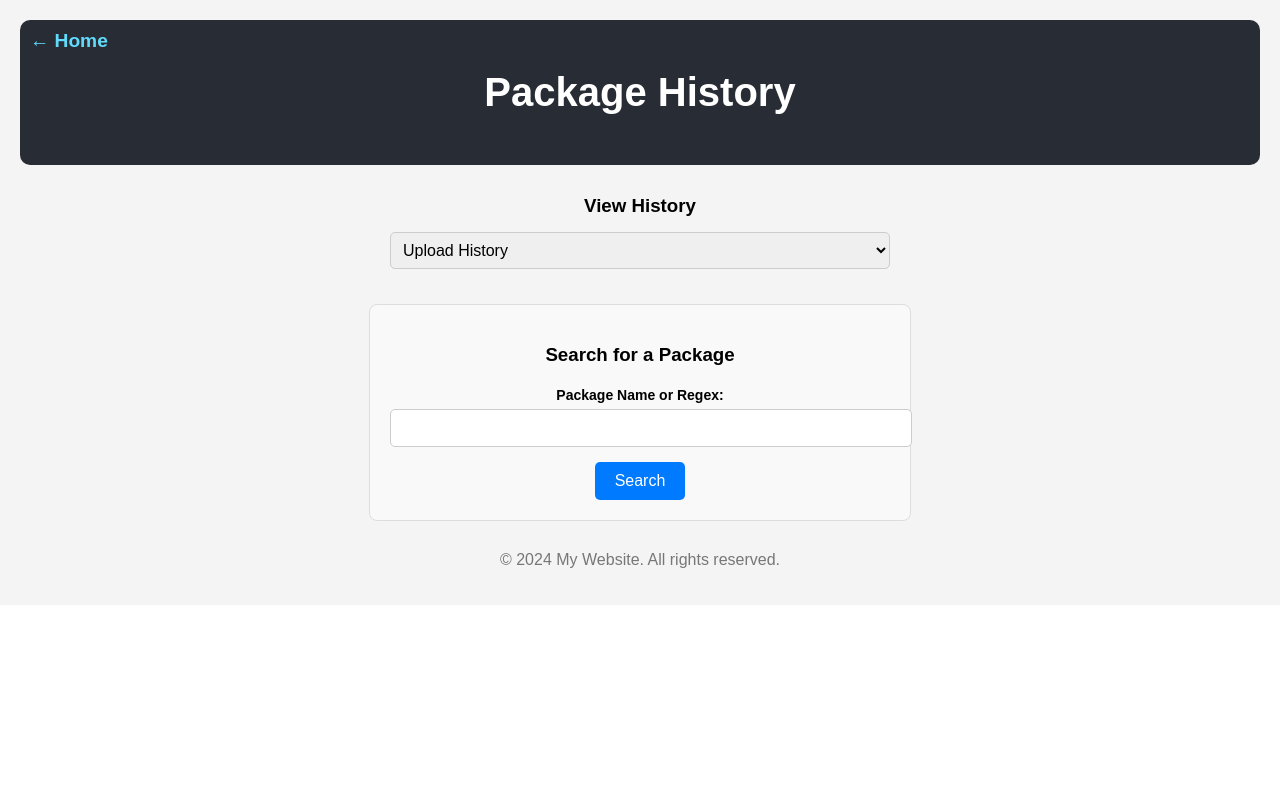
Test: HistoryPage Component › displays error when search API fails
This screenshot has width=1280, height=800.
Step 1. Type "example-package" into the field → {"x": 651, "y": 428}, box [390,409,912,447]
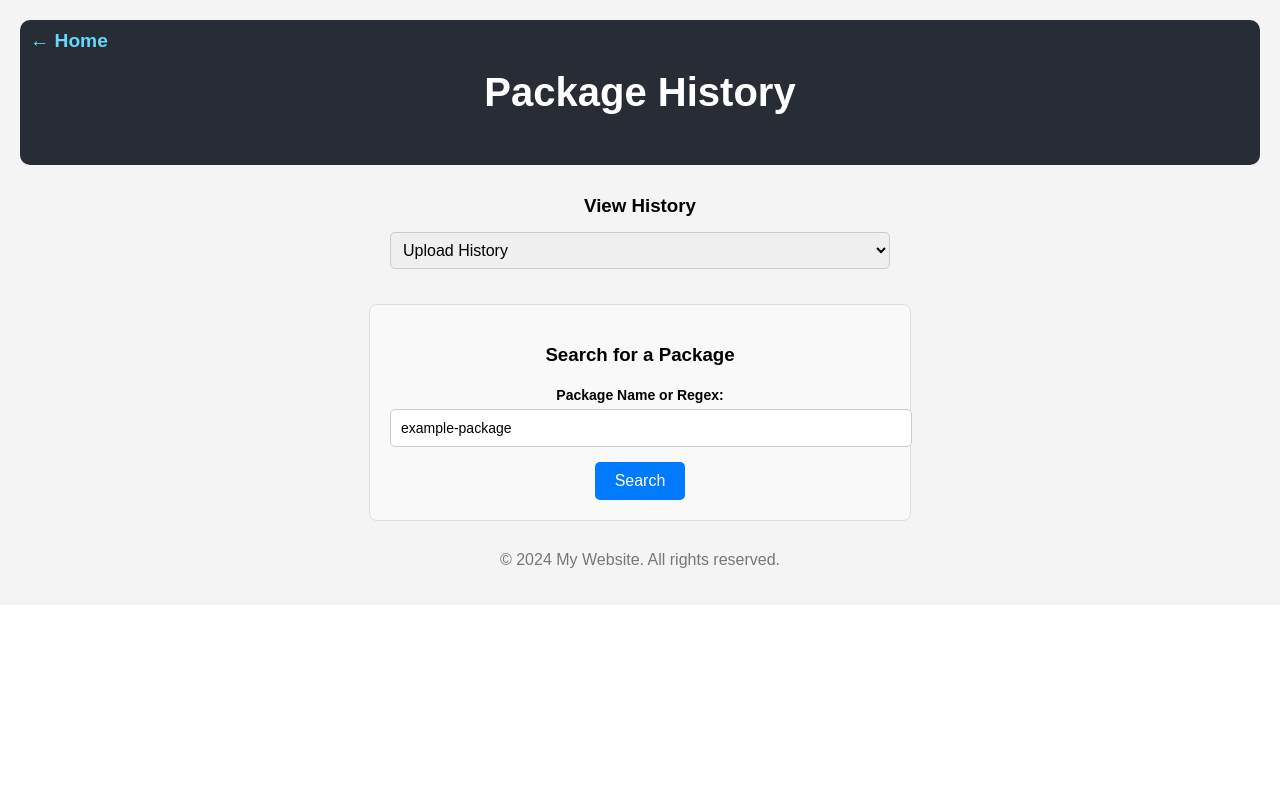
Step 2. Click the button "Search" → {"x": 640, "y": 481}, box [595,462,685,500]
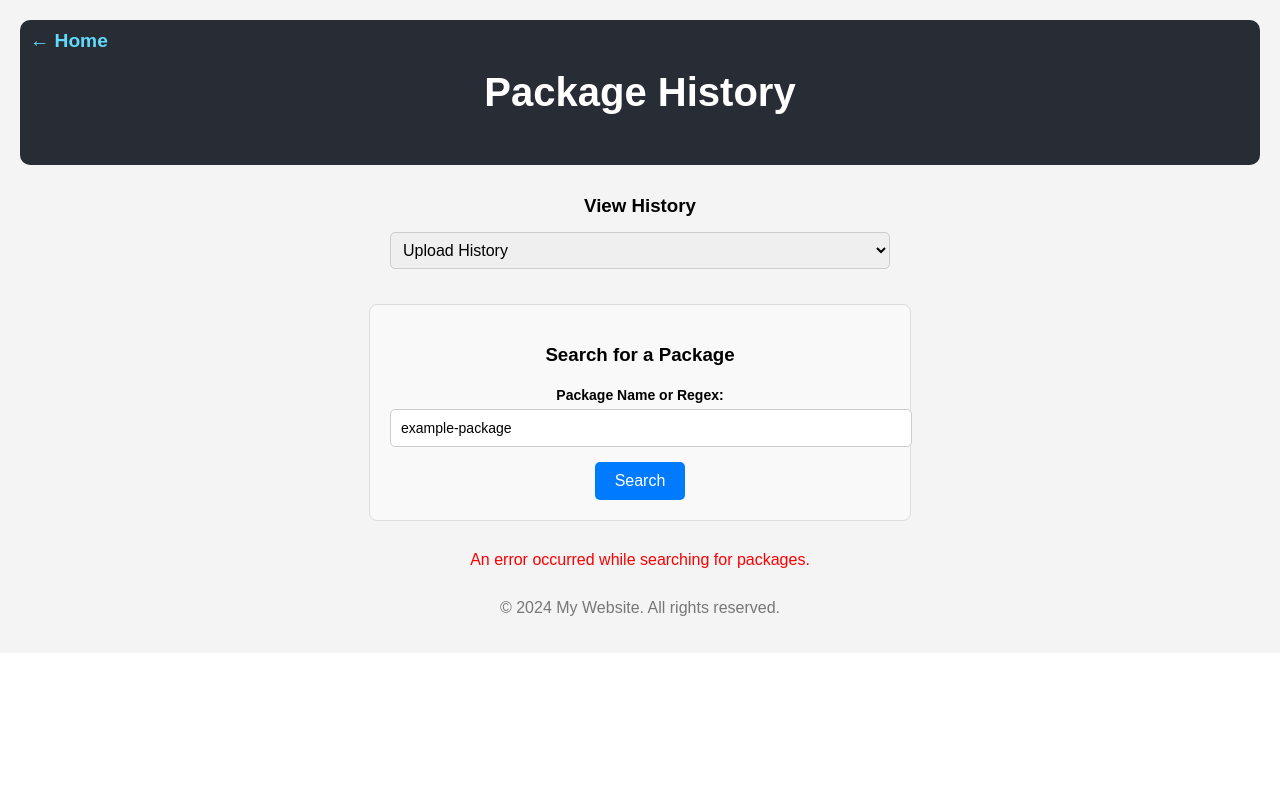
Expected: the text "An error occurred while searching for packages." is shown, [470,551,810,568]
